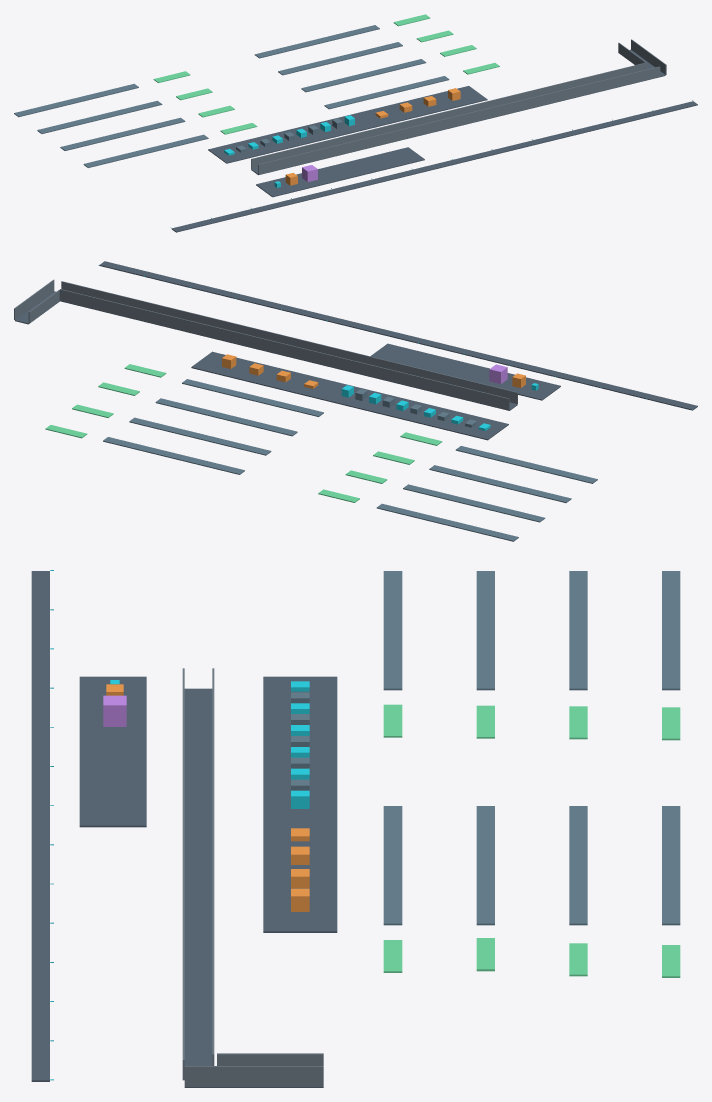
File: SM_KZ_Measurement.fbx
The picture shows the model from 3 angles, top to bottom: view 1: azimuth 30°, elevation 25°; view 2: azimuth 150°, elevation 25°; view 3: azimuth 270°, elevation 25°; orthographic projection. The views are drawn at different scales.
Visible parts, largest first — view 1: SM_KZ_Measurement; view 2: SM_KZ_Measurement; view 3: SM_KZ_Measurement.
Boxes of the visible parts, x1,y1,x2,y2 form: SM_KZ_Measurement: [14, 14, 697, 232]; SM_KZ_Measurement: [14, 261, 697, 541]; SM_KZ_Measurement: [31, 570, 680, 1087].
Size of what is drawn, in the model's own units: 13171 by 314 by 7000.
